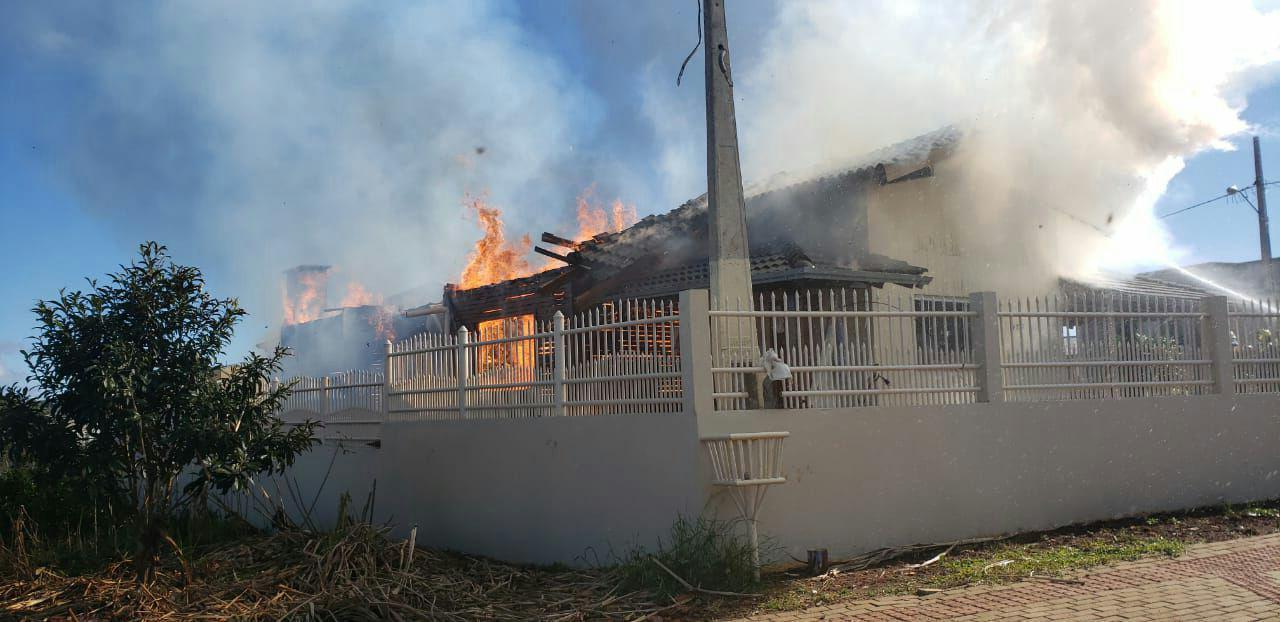Fire: (461, 201, 642, 371), (279, 257, 382, 329)
